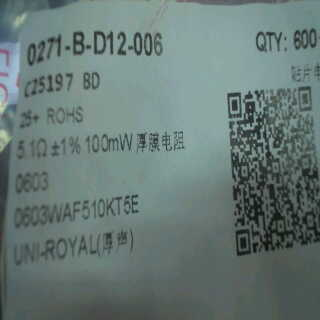5.1R: (13, 136, 48, 167)
